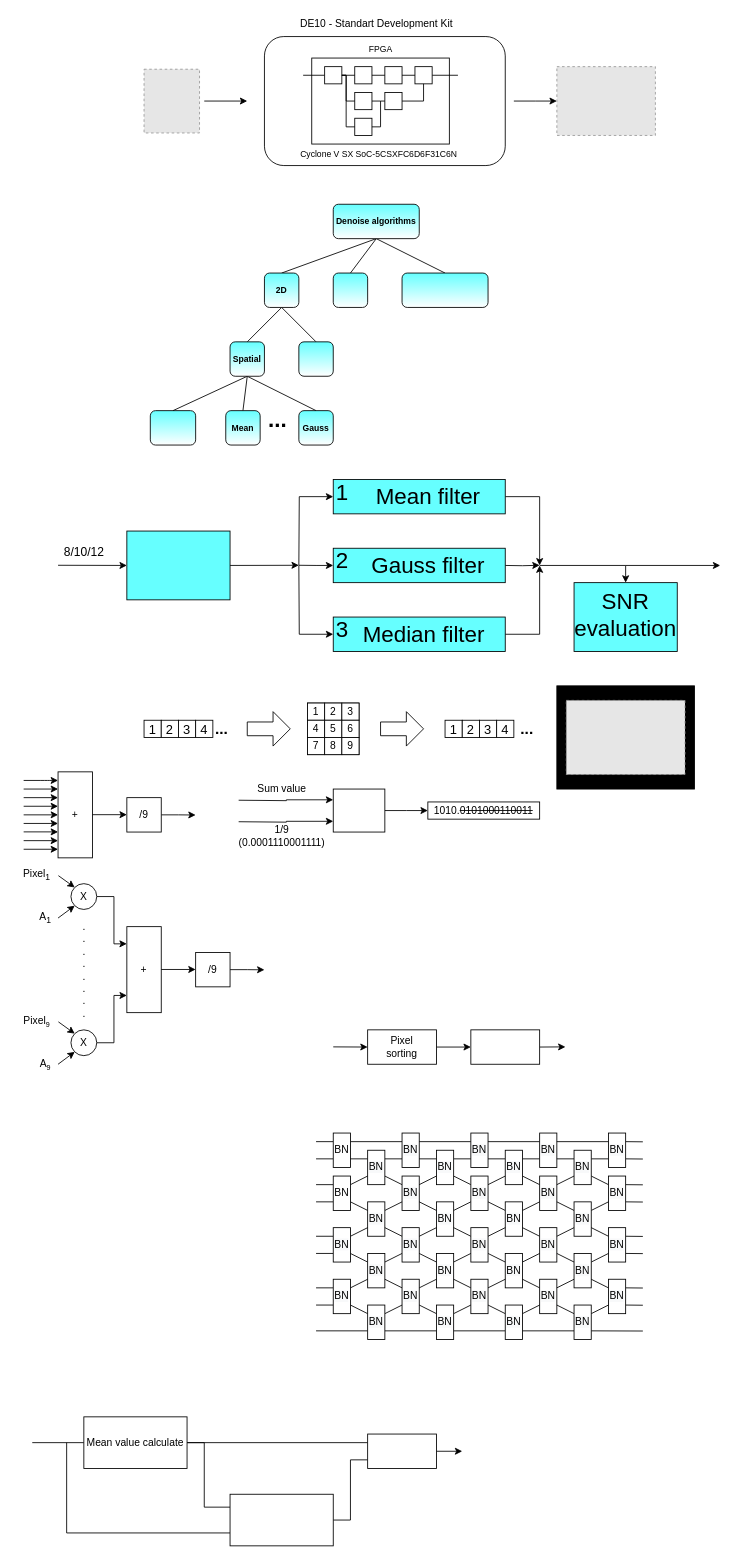
The diagram is 742 pixels wide and 1561 high, and some of its shapes have lost their labels. Grey dashed boxes stand in for pictures. Here are the shapes that lost their labels. From the top down, the box of each, then its label:
(332, 272, 368, 307): 3D
(401, 272, 488, 307): Neural networks
(298, 341, 333, 376): Time
(149, 410, 196, 445): Median
(126, 530, 230, 600): Slicing window
(332, 788, 385, 832): DSP multiplier
(470, 1029, 540, 1064): Pixel selector
(367, 1433, 436, 1468): Divider
(229, 1493, 333, 1546): SKO calculate
